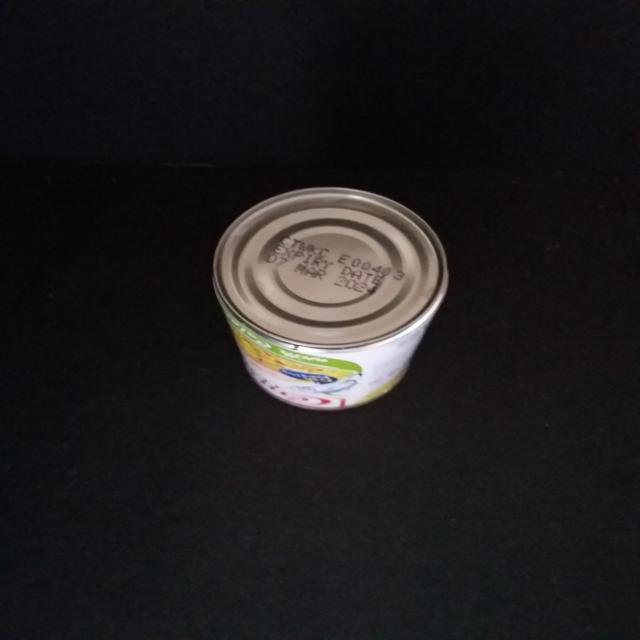metal-can: (208, 182, 454, 416)
